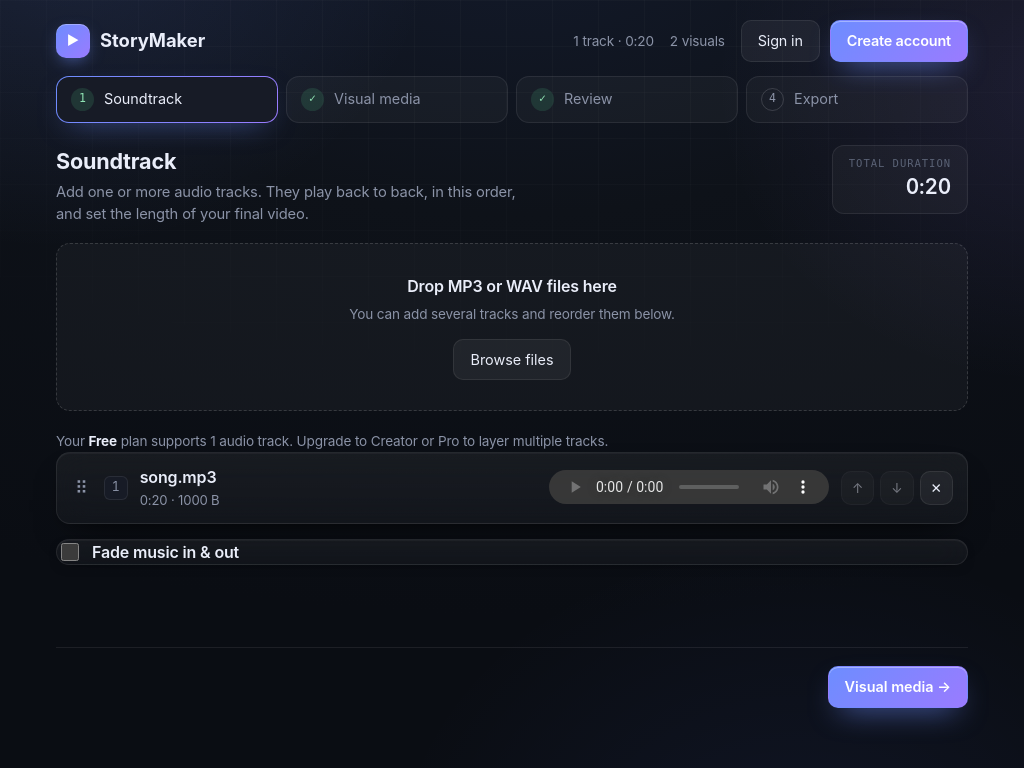
it: editor access without an account › signed-out users can reach Export without being redirected to sign in
Click the button "4 Export" at (857, 99), box x1=746 y1=76 x2=968 y2=123
(page scrolled)
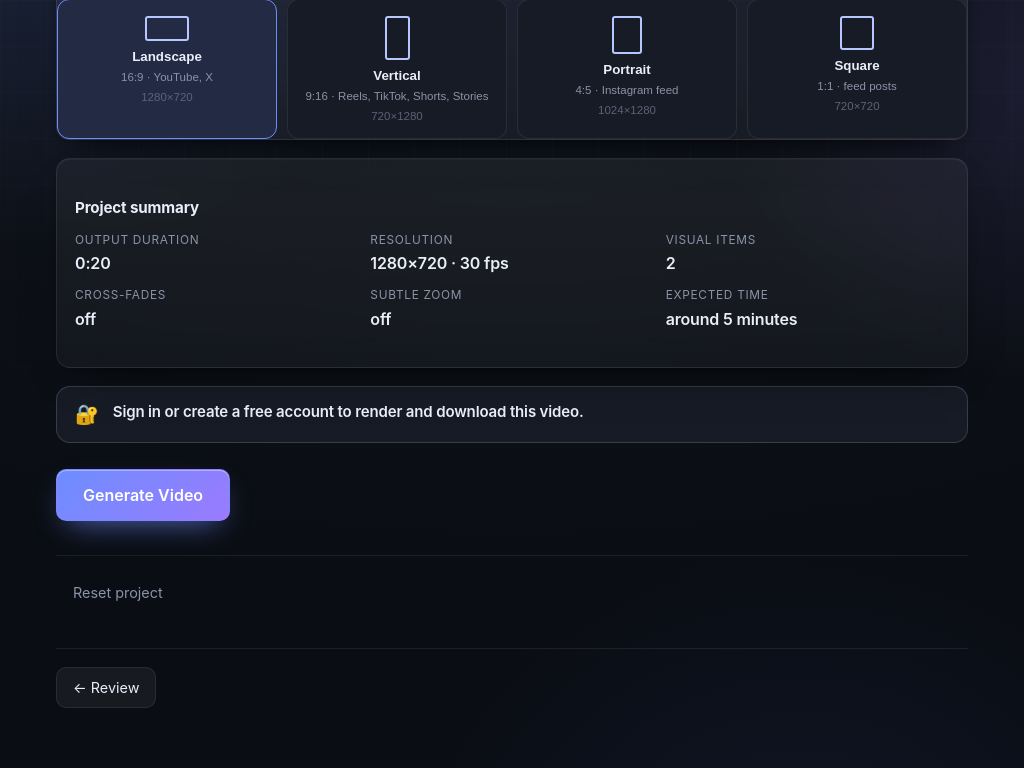
Expected: the button "Generate Video" is shown, x1=56 y1=469 x2=230 y2=521
